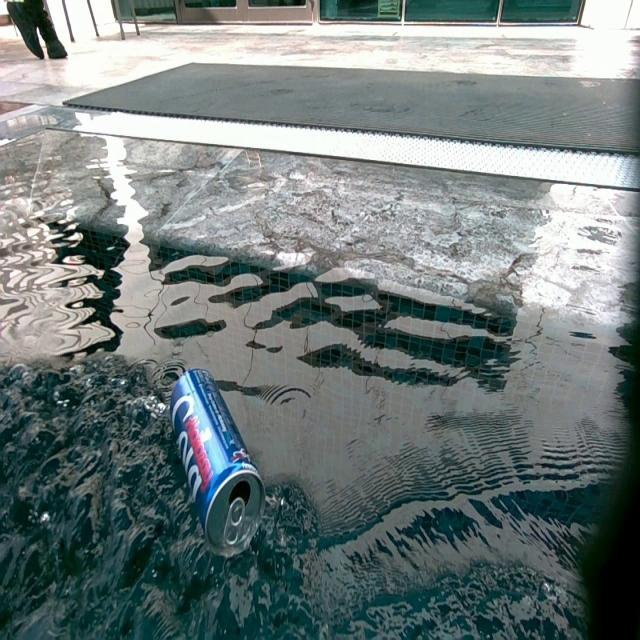Cans: (166, 365, 266, 552)
